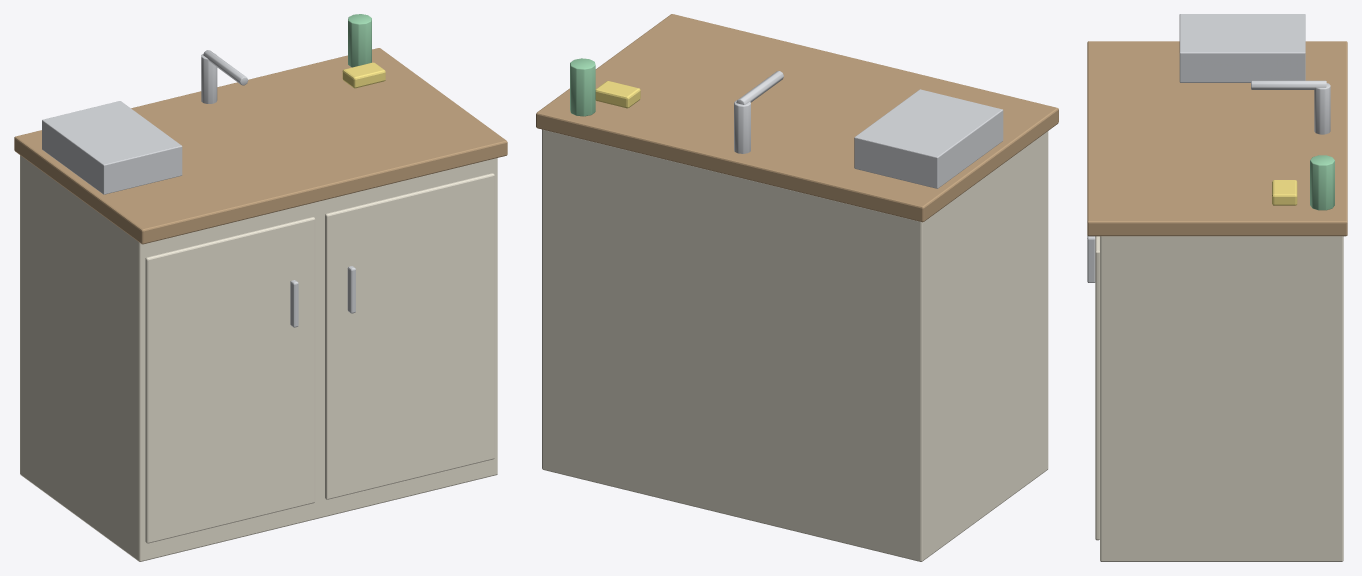
The model's file is v2_sink_unit.fbx.
3 views of the same model, side by side, from view 1: azimuth 30°, elevation 25°; view 2: azimuth 150°, elevation 25°; view 3: azimuth 270°, elevation 25° (orthographic). The views are drawn at different scales.
Parts seen in each view (by area): view 1: Cab, Door, Door.001, Top.002, DrainRack, Soap, Sponge, TapBase; view 2: Cab, Top.002, DrainRack, Soap, Sponge, TapBase; view 3: Cab, Top.002, DrainRack, Door.001, Soap, TapBase, TapSpout, Sponge, Pull.001.
Part boxes in pixels (x1,y1,x2,y2): Cab: [20, 155, 497, 561]; Door: [145, 217, 315, 543]; Door.001: [325, 173, 494, 499]; Top.002: [14, 48, 507, 244]; DrainRack: [42, 101, 182, 194]; Soap: [348, 14, 371, 67]; Sponge: [342, 62, 385, 88]; TapBase: [201, 53, 217, 103]; Cab: [542, 129, 1048, 561]; Top.002: [536, 14, 1058, 222]; DrainRack: [854, 89, 1003, 188]; Soap: [570, 58, 595, 116]; Sponge: [595, 81, 640, 108]; TapBase: [734, 100, 750, 153]; Cab: [1100, 236, 1343, 561]; Top.002: [1087, 41, 1347, 236]; DrainRack: [1179, 14, 1305, 82]; Door.001: [1095, 236, 1099, 540]; Soap: [1310, 155, 1334, 210]; TapBase: [1314, 83, 1330, 134]; TapSpout: [1251, 80, 1326, 89]; Sponge: [1272, 180, 1297, 205]; Pull.001: [1087, 236, 1095, 282].
Size of the model in its own units: 1.02 by 1.03 by 0.62.
